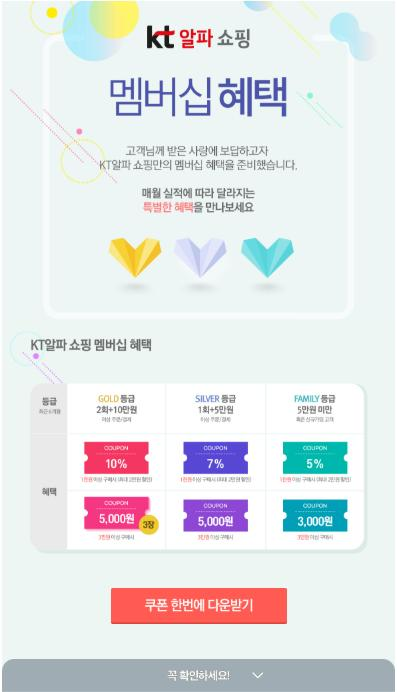button: (113, 587, 288, 628)
checkbox: (160, 662, 279, 692)
